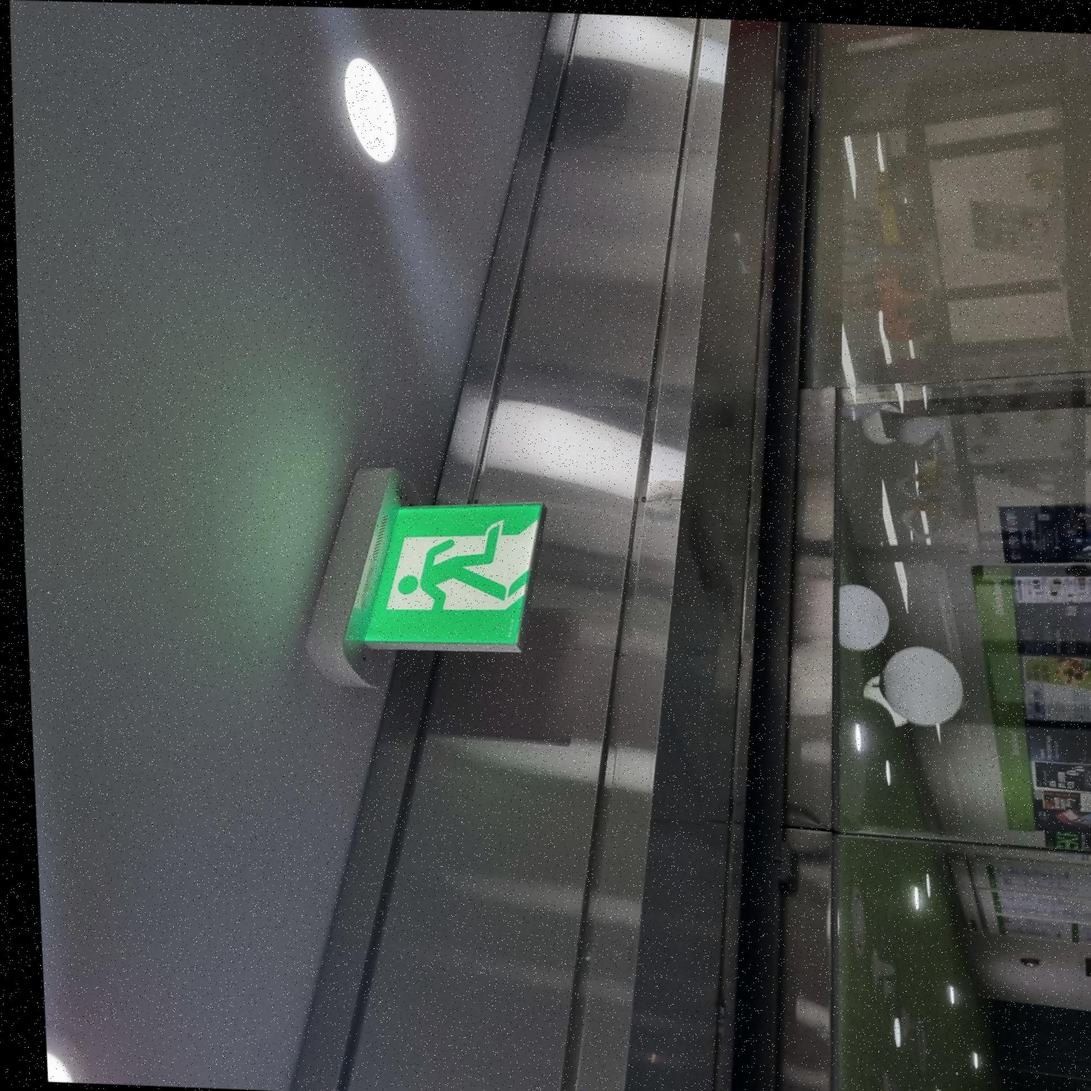emergency_exit: (346, 498, 546, 656)
